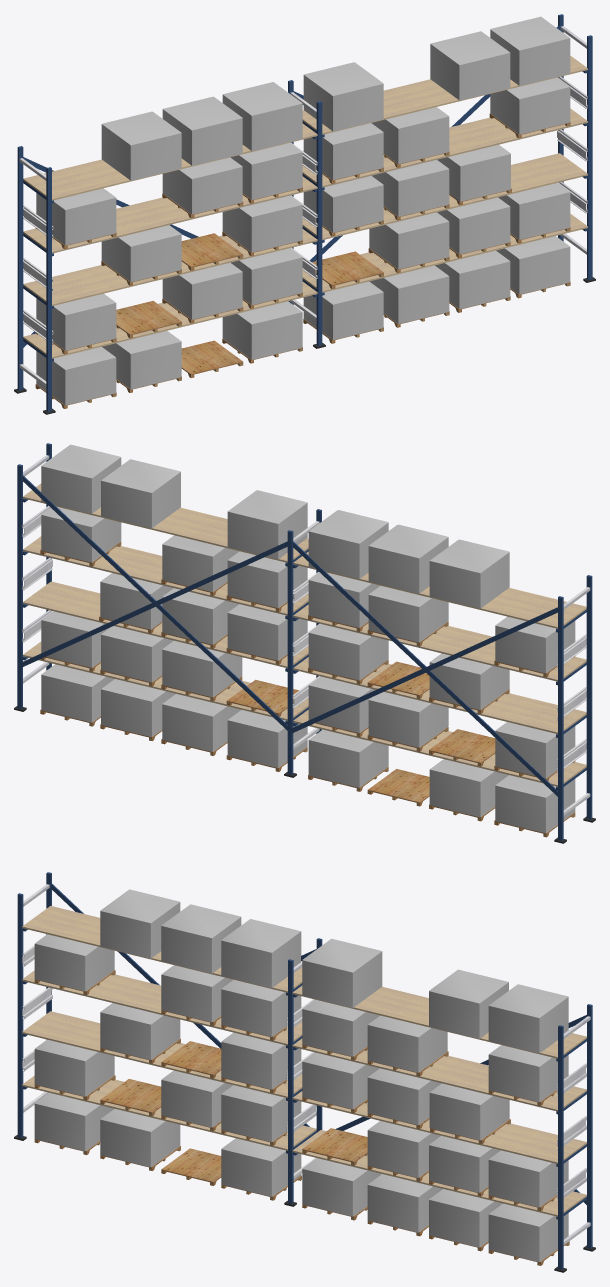
Rendered from BigShelves02Group5.FBX.
3 renders of one model, top to bottom at view 1: azimuth 30°, elevation 25°; view 2: azimuth 150°, elevation 25°; view 3: azimuth 330°, elevation 25°, orthographic.
Parts seen in each view (by area): view 1: Box_Pallet01, BigShelves02, BigShelvesWoodBox; view 2: Box_Pallet01, BigShelves02, BigShelvesWoodBox; view 3: Box_Pallet01, BigShelves02, BigShelvesWoodBox.
Boxes of the visible parts, x1,y1,x2,y2 form: Box_Pallet01: (36,16,570,405); BigShelves02: (14,14,595,414); BigShelvesWoodBox: (35,113,570,408); Box_Pallet01: (41,444,575,833); BigShelves02: (14,443,595,843); BigShelvesWoodBox: (40,542,575,837); Box_Pallet01: (34,889,568,1261); BigShelves02: (14,872,595,1272); BigShelvesWoodBox: (34,970,569,1265).
Size of the model in its own units: 699 by 302 by 71.33.
